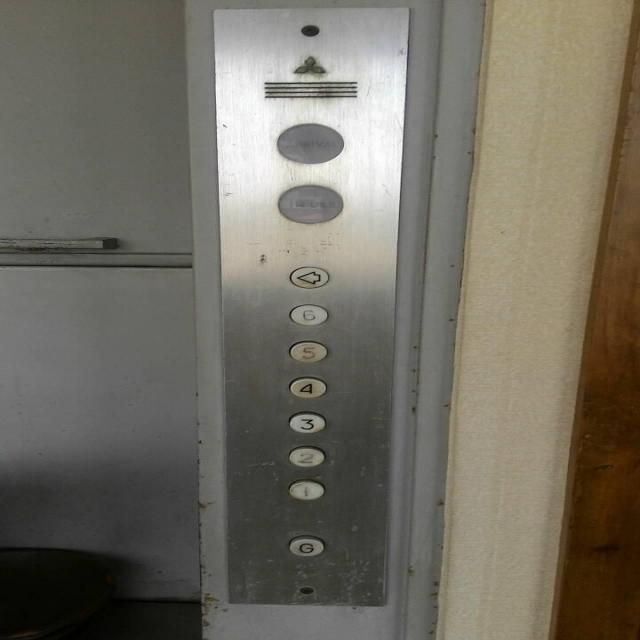1: (286, 478, 324, 500)
2: (286, 444, 324, 467)
3: (286, 410, 326, 432)
4: (286, 375, 327, 397)
5: (285, 339, 327, 362)
6: (286, 303, 328, 325)
G: (286, 534, 324, 556)
text_blur: (275, 122, 344, 164), (274, 183, 343, 223)
unknown: (287, 266, 329, 288)
